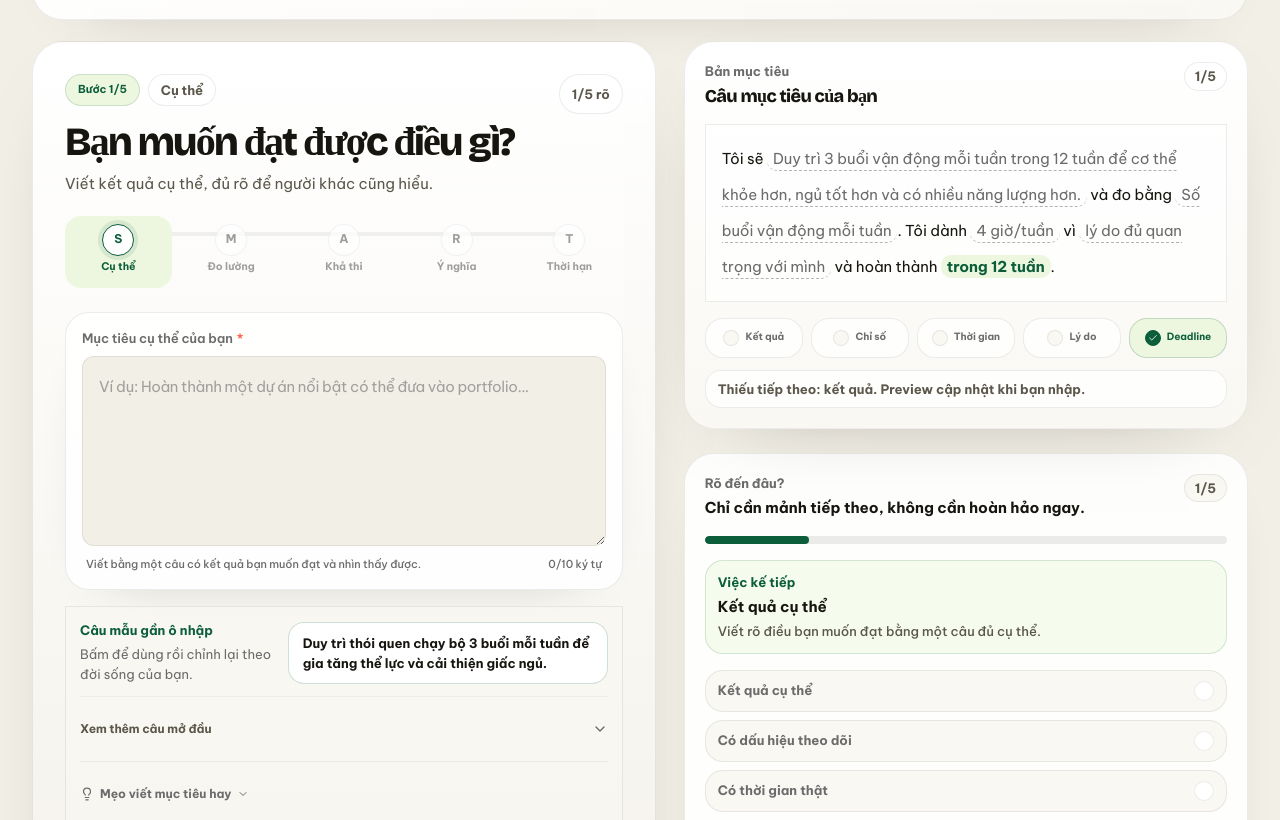
Test: SMARTGoalSetup handoff › autosaves draft to localStorage when user types in goal statement
(page scrolled)
Expected: the heading "Bạn muốn đạt được điều gì?" is shown, top-left (65, 122), bottom-right (547, 164)
Type a goal statement into the Specific step textarea
Replace the text in the text box with "Chạy bộ 5km mỗi tuần trong 12 tuần tới" at (344, 451), box top-left (82, 356), bottom-right (606, 546)
Wait 700 ms
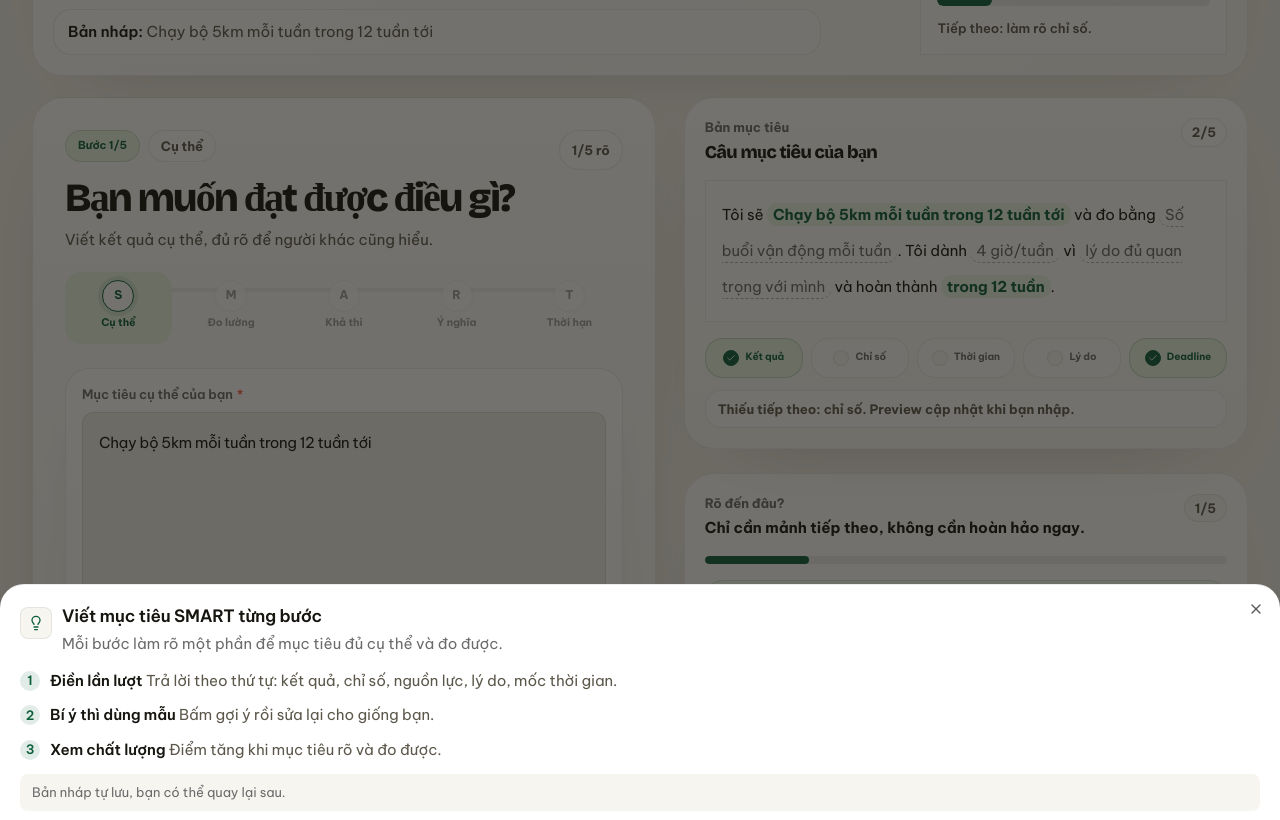
Expected: the text "Chạy bộ 5km mỗi tuần trong 12 tuần tới" is shown, top-left (147, 22), bottom-right (433, 41)
